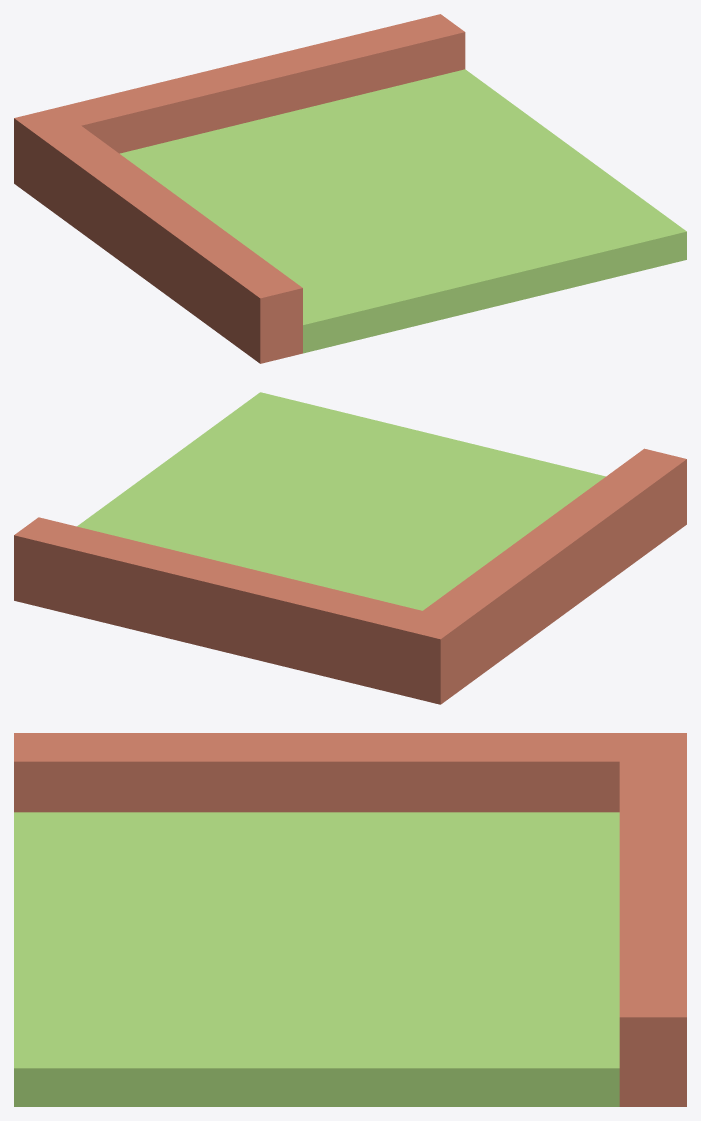
File: Corner_01.glb
3 renders of one model, top to bottom at view 1: azimuth 30°, elevation 25°; view 2: azimuth 150°, elevation 25°; view 3: azimuth 270°, elevation 25°, orthographic. The views are drawn at different scales.
Visible parts, largest first — view 1: Mesh1 Corner Model; view 2: Mesh1 Corner Model; view 3: Mesh1 Corner Model.
Boxes of the visible parts, x1,y1,x2,y2 form: Mesh1 Corner Model: (14,14,686,363); Mesh1 Corner Model: (14,392,686,704); Mesh1 Corner Model: (14,733,686,1106).
Bounding box in the file's own units: 3 × 0.44 × 3.
